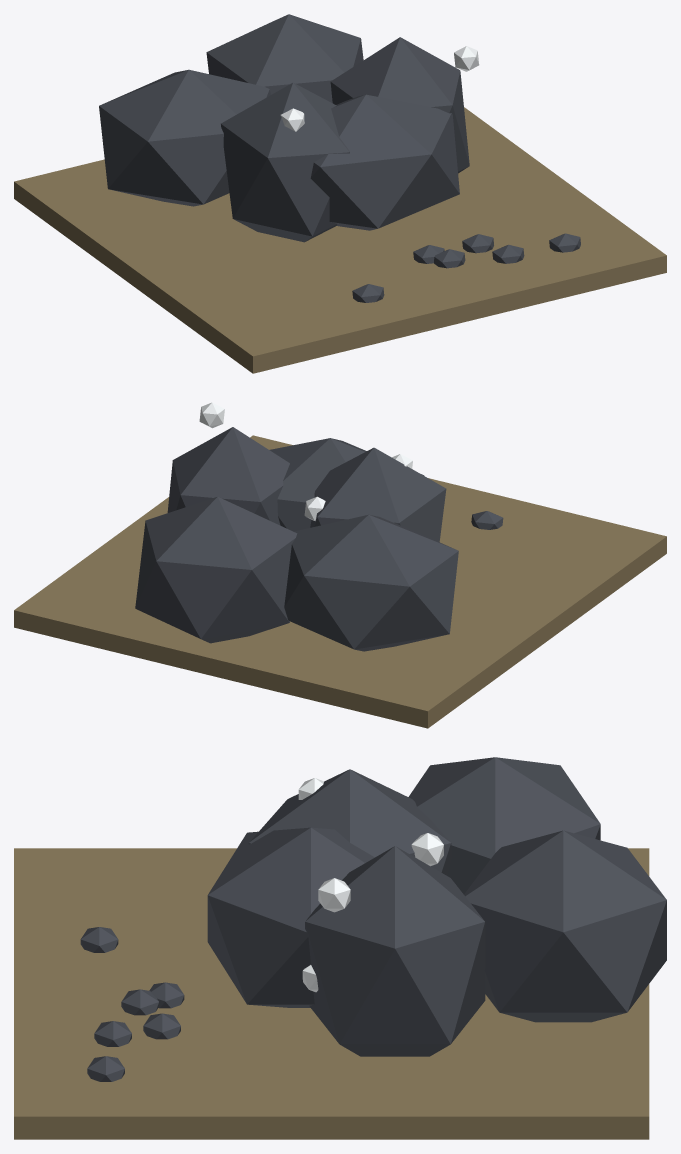
File: Deposit_Silver_Mining.fbx
The picture shows the model from 3 angles, top to bottom: view 1: azimuth 30°, elevation 25°; view 2: azimuth 150°, elevation 25°; view 3: azimuth 270°, elevation 25°; orthographic projection. The views are drawn at different scales.
Parts seen in each view (by area): view 1: Deposit_Silver_Mining_Body; view 2: Deposit_Silver_Mining_Body; view 3: Deposit_Silver_Mining_Body.
Boxes of the visible parts, box(x1,y1,x2,y2) form: Deposit_Silver_Mining_Body: box(14, 14, 666, 373); Deposit_Silver_Mining_Body: box(14, 402, 666, 728); Deposit_Silver_Mining_Body: box(14, 757, 666, 1139).
Bounding box in the file's own units: 1 × 0.4009 × 1.03.
